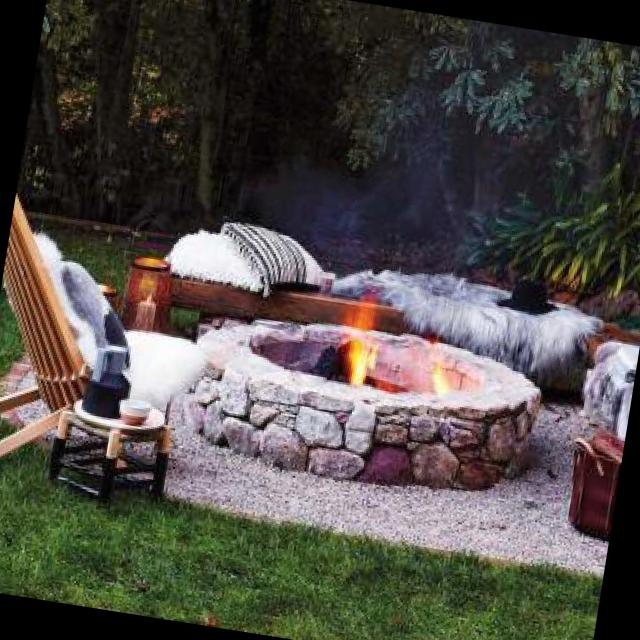Fire: (334, 294, 392, 390), (418, 339, 462, 398)
